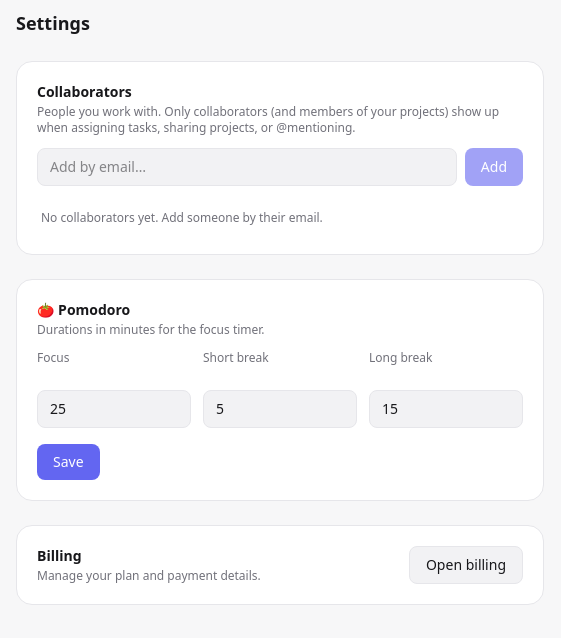
Test case: SettingsPage › adds a collaborator by email
Type "friend@x.io" into the field with placeholder "Add by email…" at (247, 167), box [37,148,457,186]
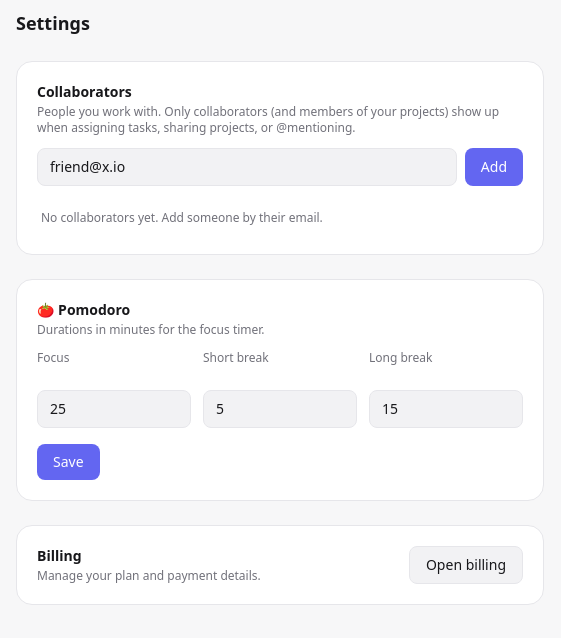
Click the button "Add" at (494, 167), box [465,148,523,186]
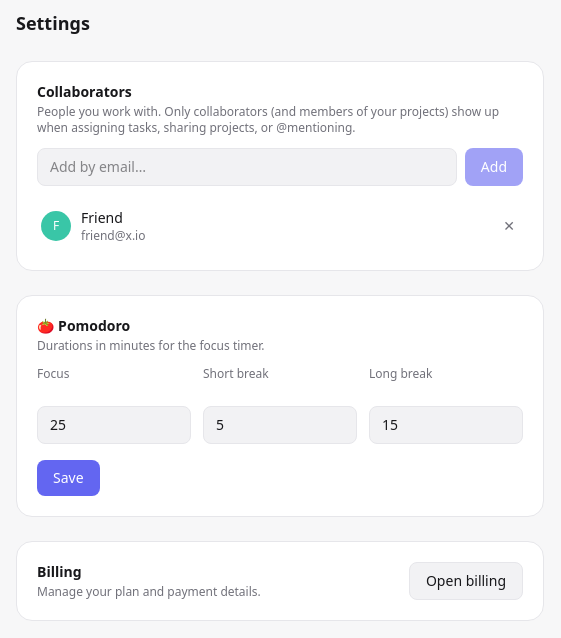
Expected: the text "Friend" is shown, [81,208,123,227]
